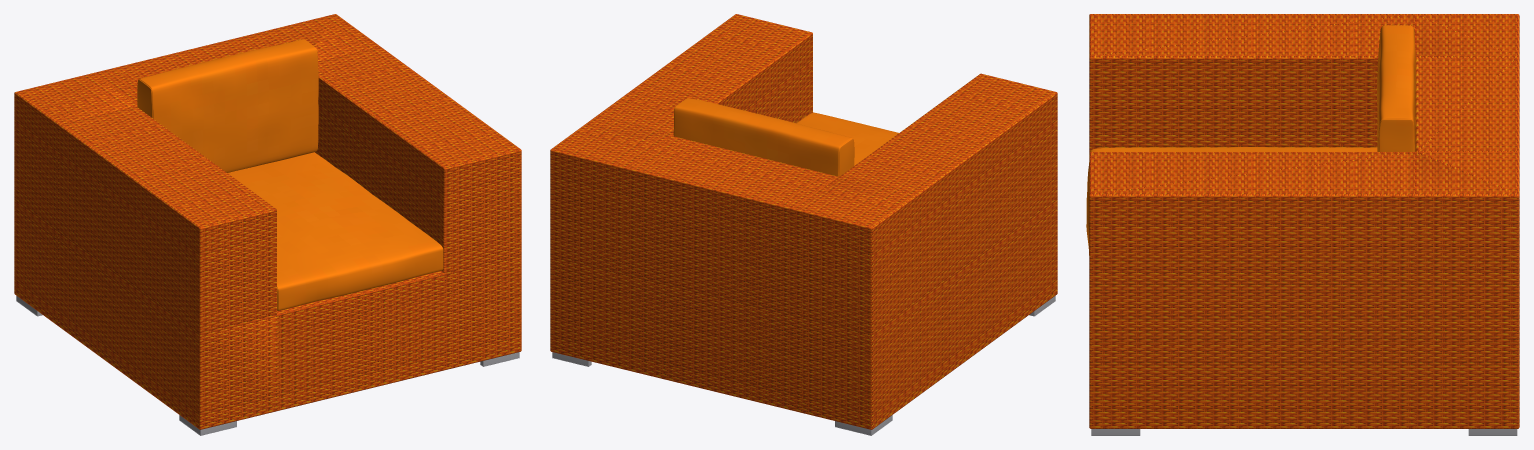
3 renders of one model, left to right at view 1: azimuth 30°, elevation 25°; view 2: azimuth 150°, elevation 25°; view 3: azimuth 270°, elevation 25°, orthographic. The views are drawn at different scales.
Bounding box in the file's own units: 1.06 × 0.75 × 1.06.
Materials: 3 (3 with a texture image).
